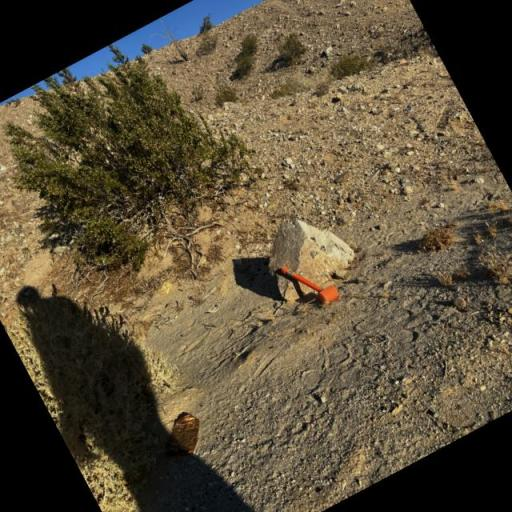mallet: (276, 246, 342, 318)
